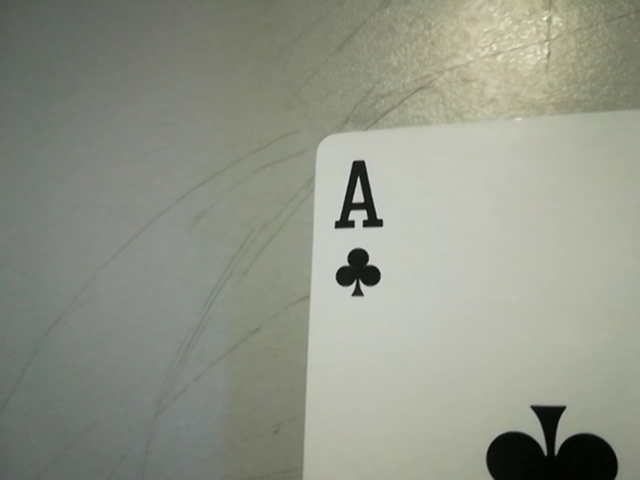mh a: (323, 152, 400, 305)
